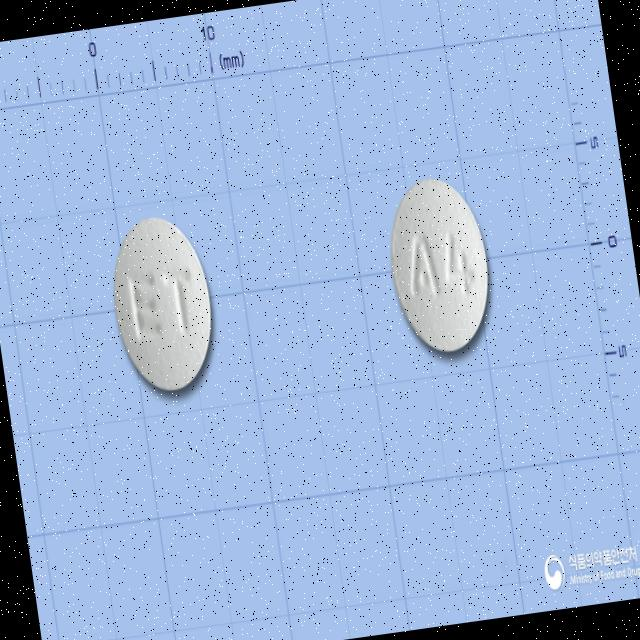Ciropan: (102, 205, 223, 398), (380, 172, 499, 360)
